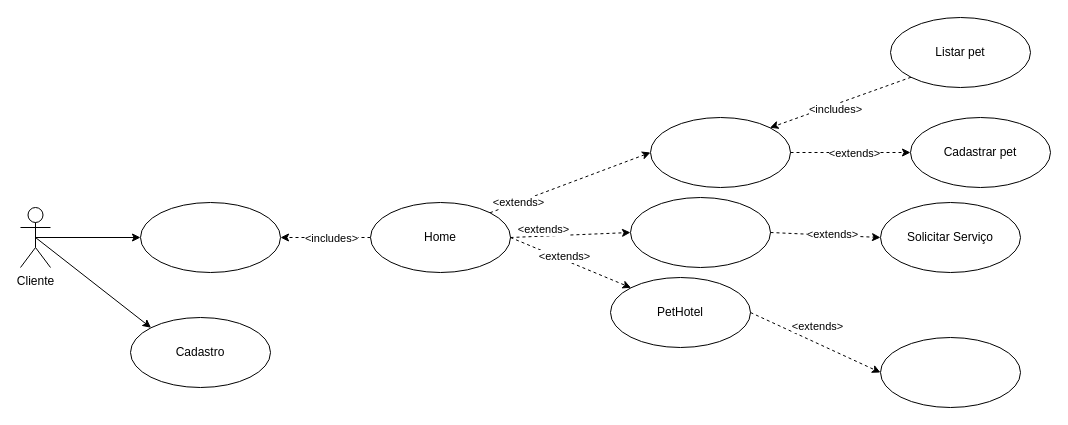
Image size: 1068x425. Some labels were removed from this diagram. Each missing label, with the centre of its shape:
"Gerenciar pet" belongs at pixel 720 152.
"Hospedar pet" belongs at pixel 950 372.
"Login" belongs at pixel 210 237.
"Pet Care" belongs at pixel 700 232.
